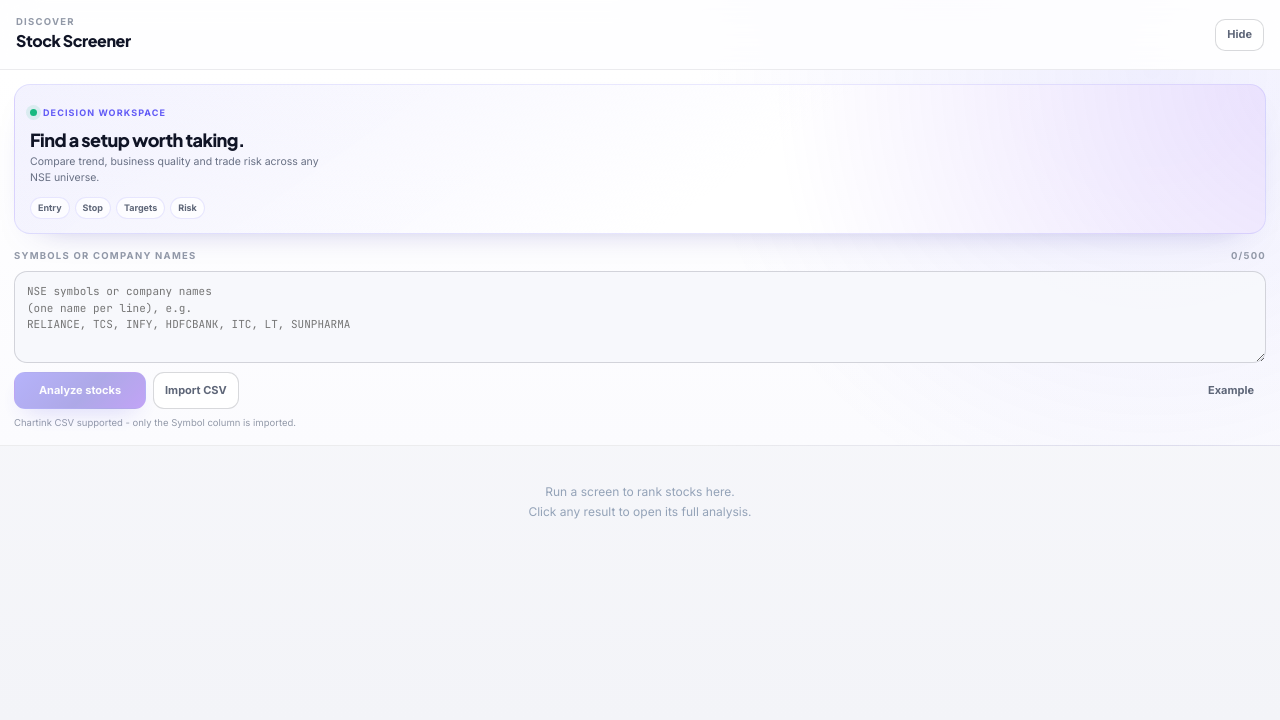
Test: lets the user cancel an in-progress stream
The width and height of the screenshot is (1280, 720).
Replace the text in the text box with "RELIANCE, TCS" at (640, 317), box [14,271,1266,363]
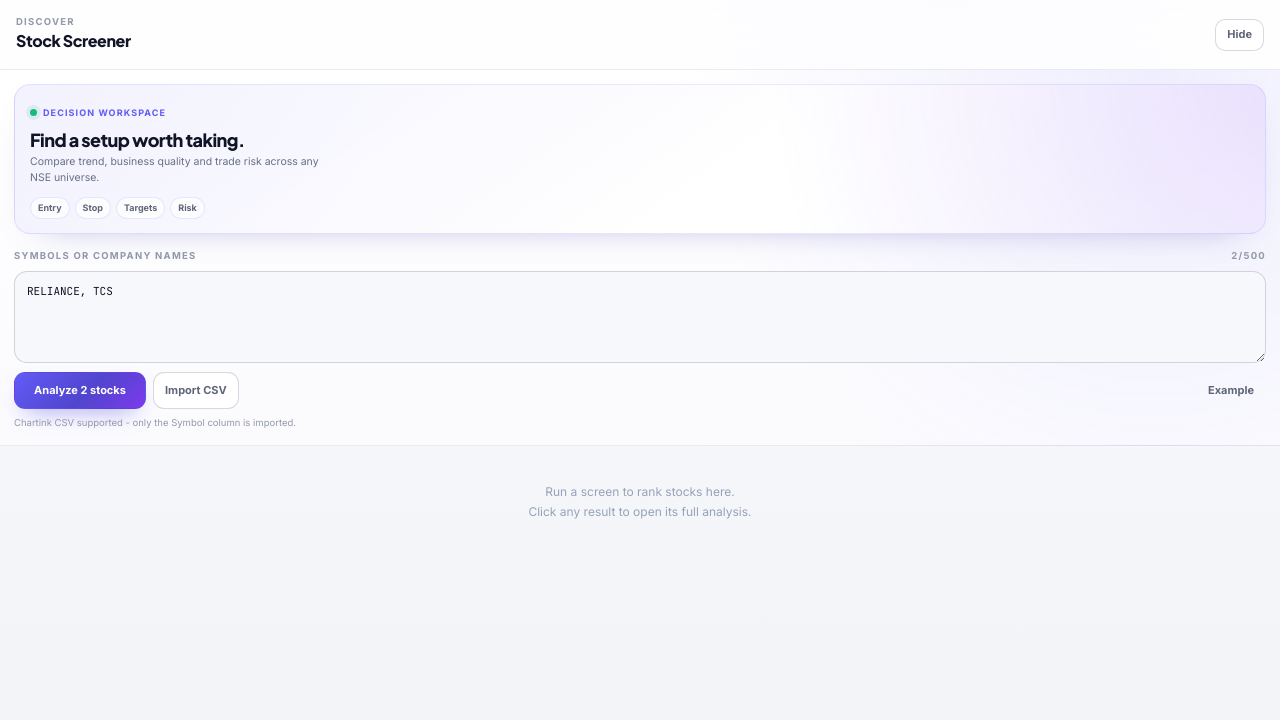
Click the button "Analyze 2 stocks" at (80, 391), box [14,372,146,409]
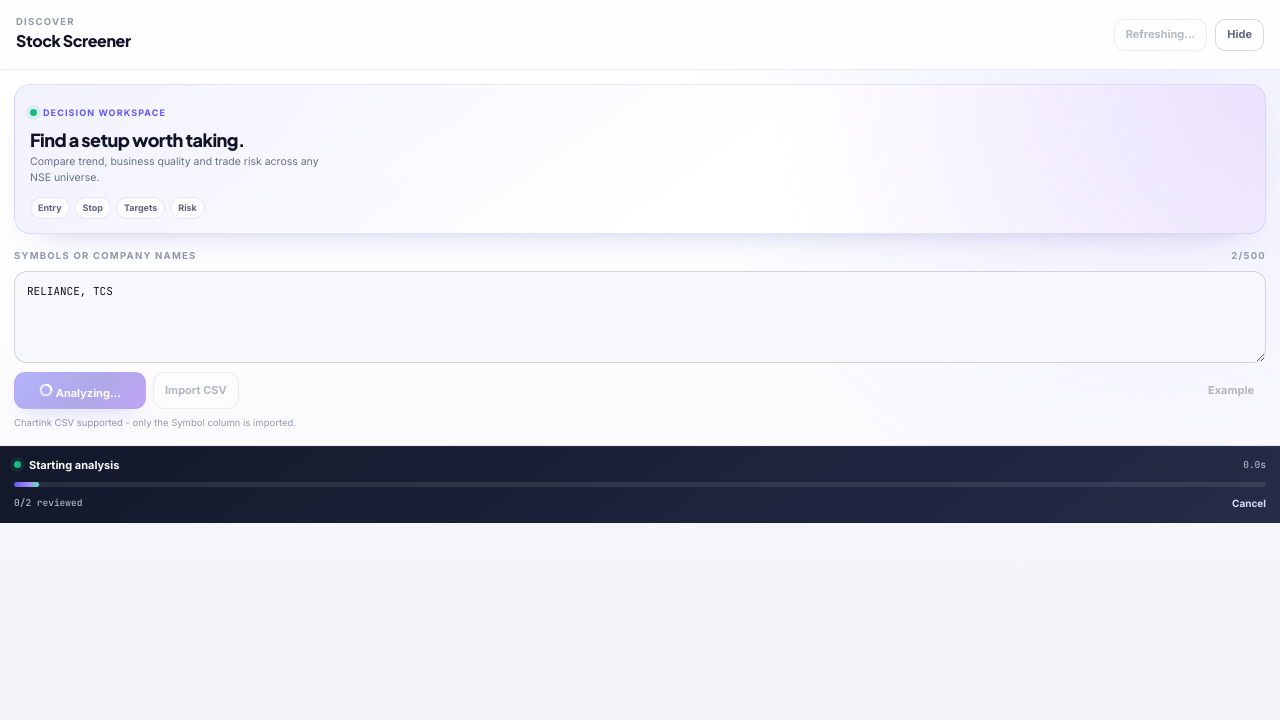
Click the button "Cancel" at (1249, 503), box [1232,495,1266,511]
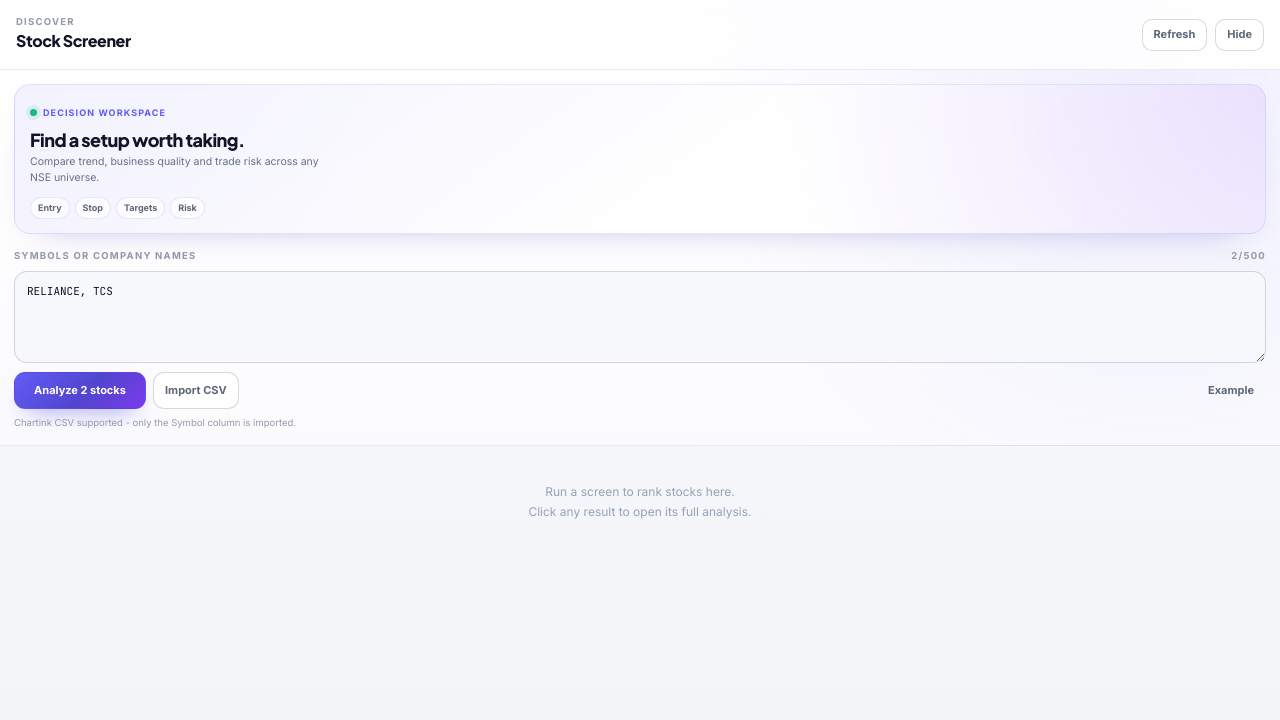
Result: the message "Starting analysis 0.0s 0/2 reviewed Cancel" is gone
